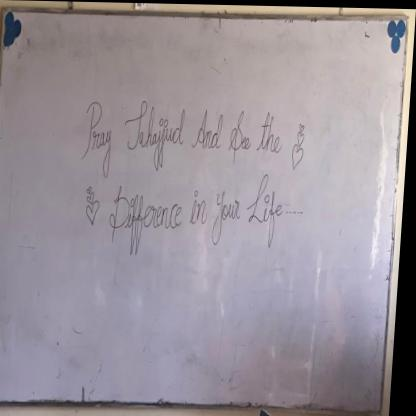Handwritten text: (78, 89, 288, 170), (109, 172, 289, 259)
Whiteboard: (0, 7, 410, 414)
